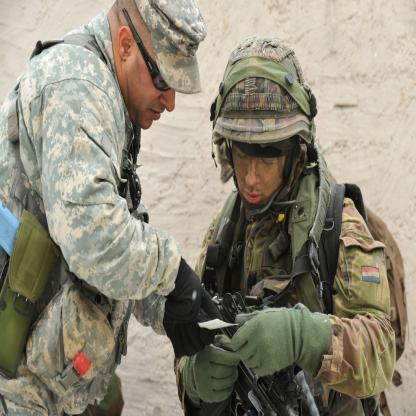Helmet: (217, 56, 325, 221)
